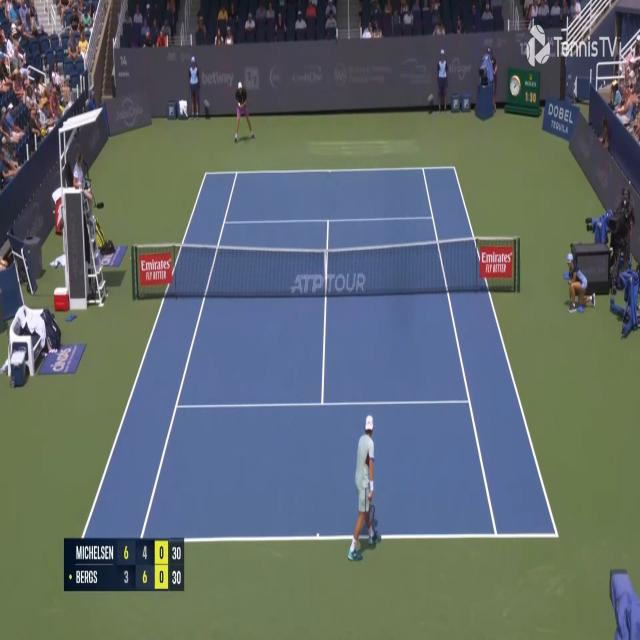tennis-player: (346, 411, 382, 566), (232, 78, 255, 144)
